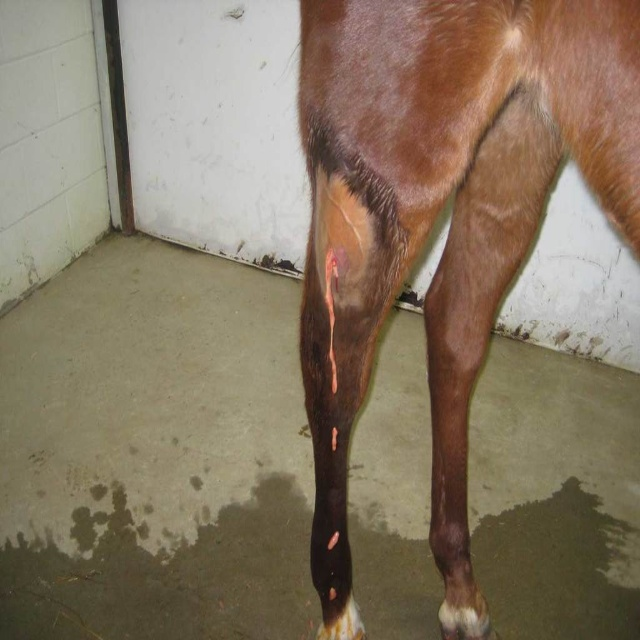Horse: (280, 0, 640, 639)
